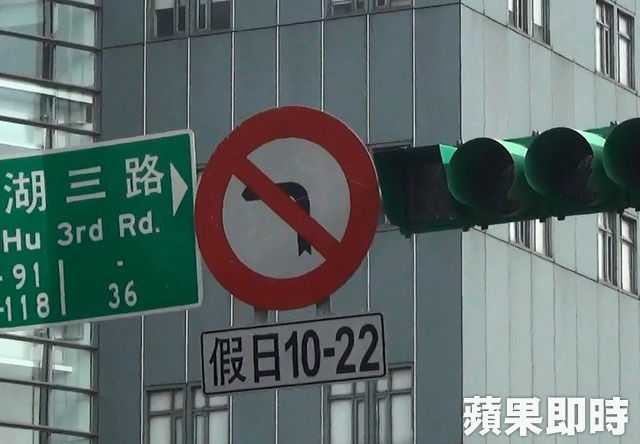No_left_turn: (195, 107, 380, 311)
